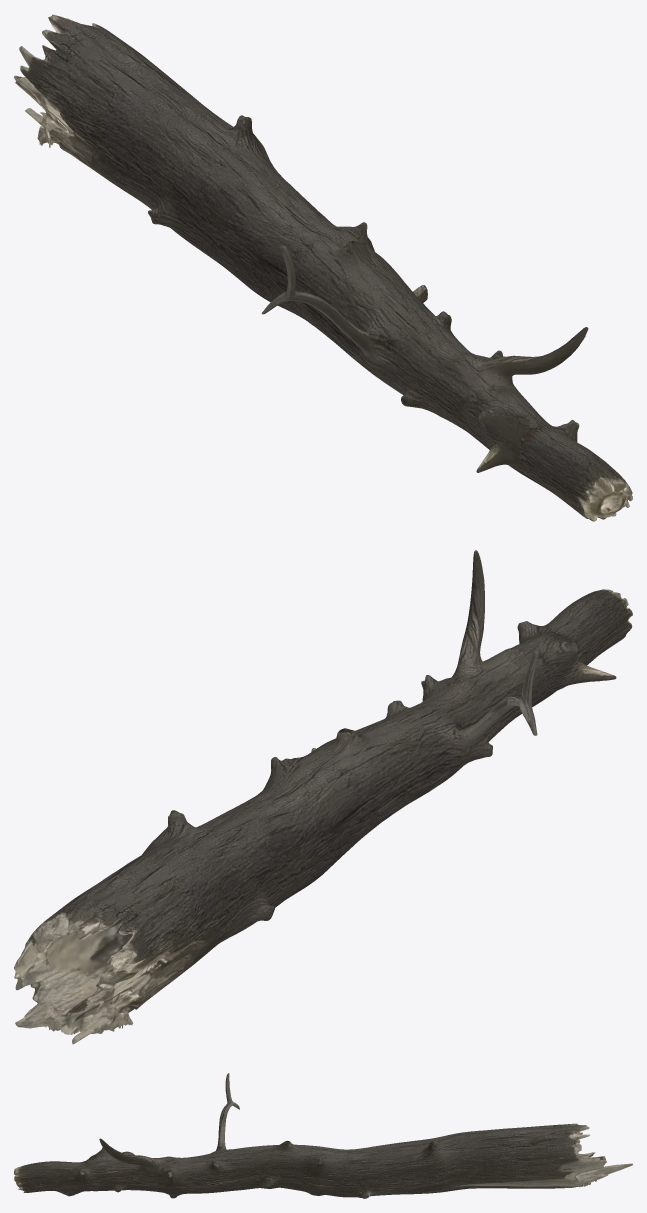
The model's file is log.glb.
3 views of the same model, one above another, from view 1: azimuth 30°, elevation 25°; view 2: azimuth 150°, elevation 25°; view 3: azimuth 270°, elevation 25° (orthographic). The views are drawn at different scales.
Visible parts, largest first — view 1: Mesh_0.003; view 2: Mesh_0.003; view 3: Mesh_0.003.
Part boxes in pixels (box(x1,y1,x2,y2)): Mesh_0.003: box(14, 14, 632, 521); Mesh_0.003: box(14, 550, 632, 1044); Mesh_0.003: box(14, 1073, 632, 1198).
Size of the model in its own units: 0.3579 by 0.3008 by 1.88.
1 material, 1 textured.
